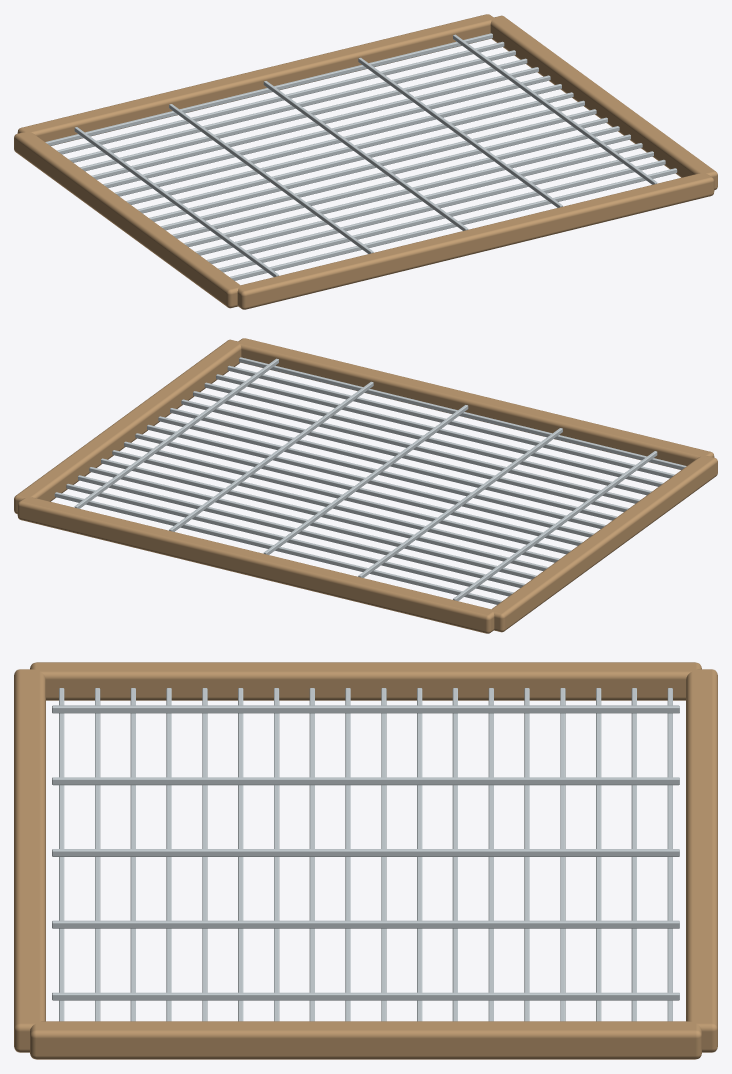
The model's file is beekeeping-and-honey-farm-queen-excluder-1dc4a90b__30704.glb.
3 renders of one model, top to bottom at view 1: azimuth 30°, elevation 25°; view 2: azimuth 150°, elevation 25°; view 3: azimuth 270°, elevation 25°, orthographic. The views are drawn at different scales.
Visible parts, largest first — view 1: queen-excluder; view 2: queen-excluder; view 3: queen-excluder.
Boxes of the visible parts, box(x1,y1,x2,y2) form: queen-excluder: box(14, 14, 717, 309); queen-excluder: box(14, 338, 717, 633); queen-excluder: box(14, 662, 717, 1059).
Bounding box in the file's own units: 0.498 × 0.018 × 0.398.
